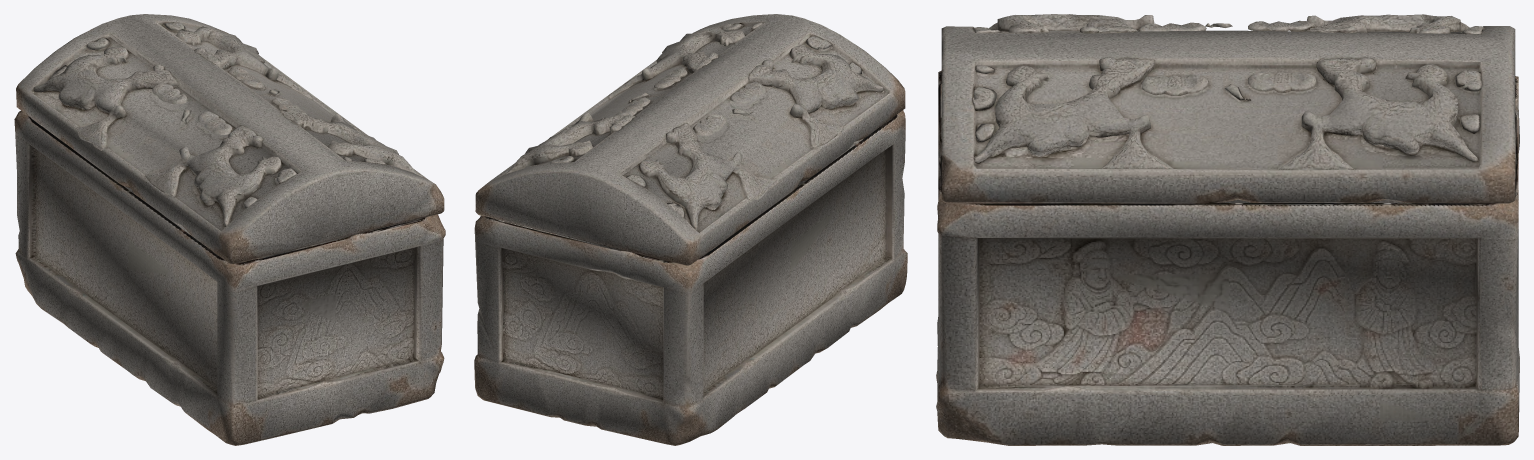
Rendered from tripo_convert_846f4421-ec41-4628-8120-1a878f855c7e.fbx.
3 views of the same model, side by side, from view 1: azimuth 30°, elevation 25°; view 2: azimuth 150°, elevation 25°; view 3: azimuth 270°, elevation 25° (orthographic). The views are drawn at different scales.
Parts seen in each view (by area): view 1: tripo_node_846f4421; view 2: tripo_node_846f4421; view 3: tripo_node_846f4421.
Part boxes in pixels (bbox=[...]): tripo_node_846f4421: bbox=[14, 14, 445, 445]; tripo_node_846f4421: bbox=[474, 14, 907, 445]; tripo_node_846f4421: bbox=[936, 14, 1519, 445].
Bounding box in the file's own units: 0.5723 × 0.6309 × 0.998.
1 material, 1 textured.
